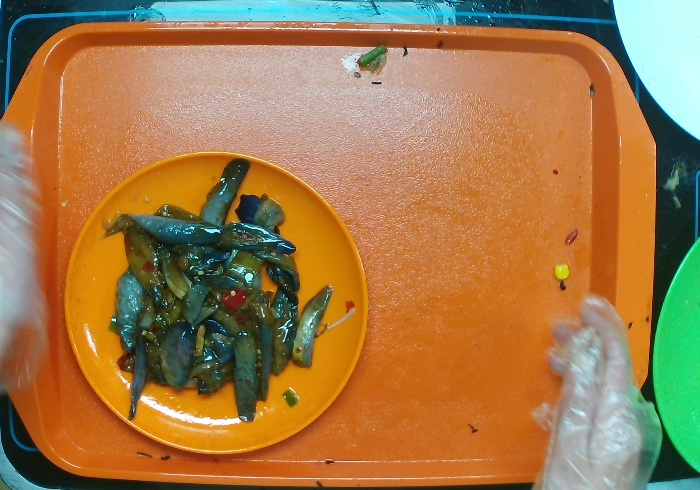HZYJPL-Ju_Huang_Yuan_Pan: (47, 138, 384, 467)
